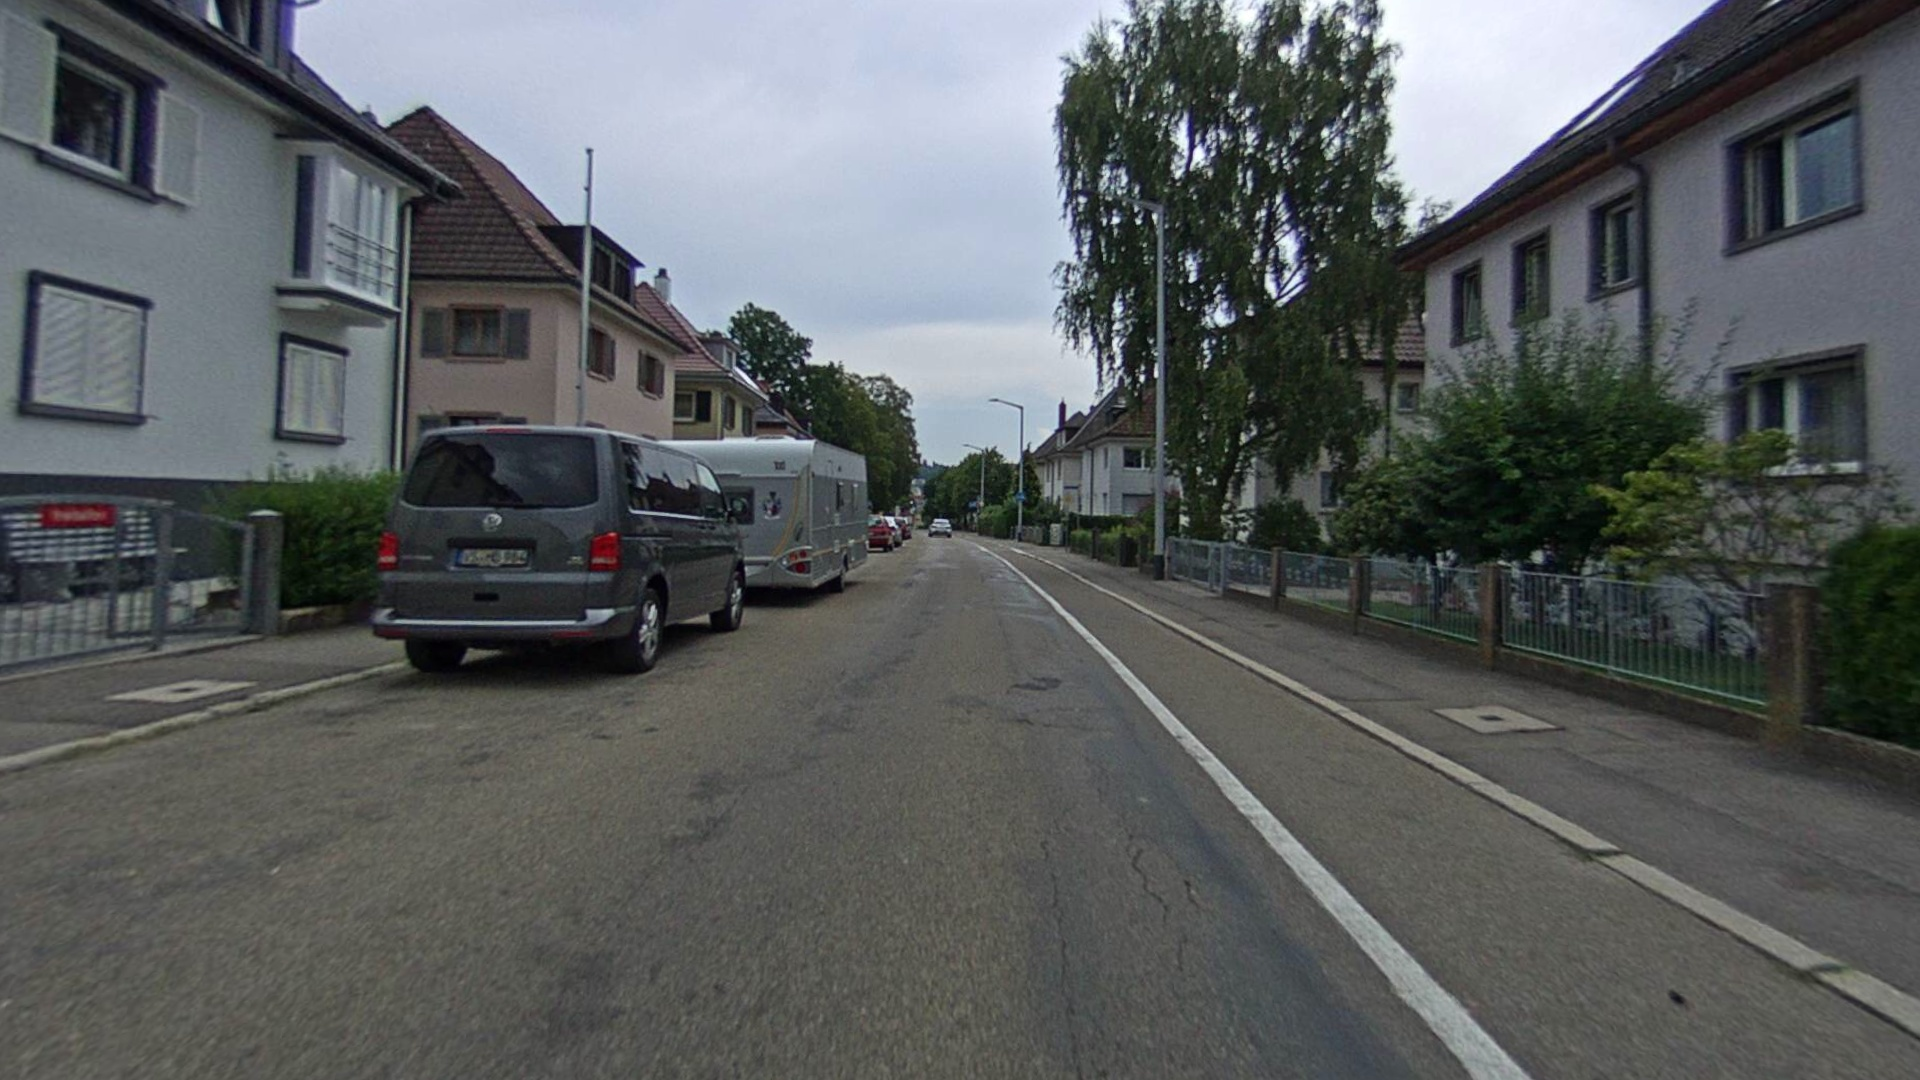car: (365, 422, 749, 676)
